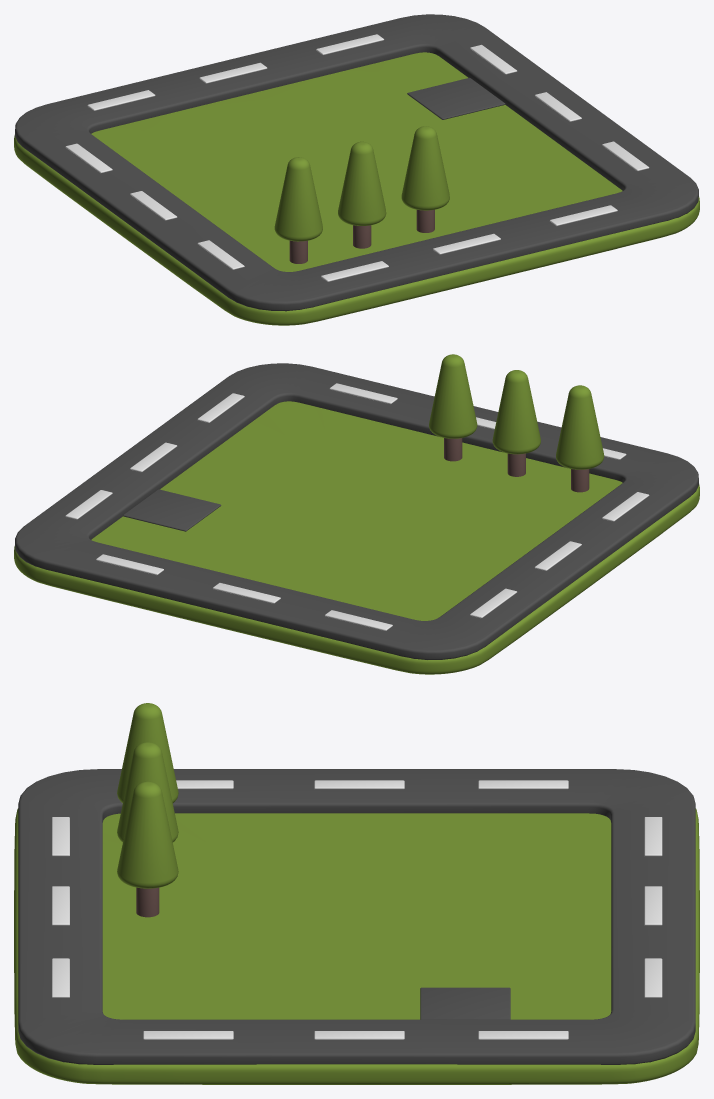
The model's file is apartment-animated-3d-icon-484116815438.glb.
The picture shows the model from 3 angles, top to bottom: view 1: azimuth 30°, elevation 25°; view 2: azimuth 150°, elevation 25°; view 3: azimuth 270°, elevation 25°; orthographic projection. The views are drawn at different scales.
Parts seen in each view (by area): view 1: Land.001, Road, Signs, Leaves.004, Leaves.002, Leaves.003, Plane.015; view 2: Land.001, Road, Signs, Leaves.003, Leaves.004, Leaves.002, Plane.015; view 3: Land.001, Road, Signs, Leaves.004, Plane.015, Leaves.003, Leaves.002, Trunk.004.
Boxes of the visible parts, x1,y1,x2,y2 form: Land.001: [14, 52, 699, 325]; Road: [15, 14, 698, 311]; Signs: [65, 34, 649, 281]; Leaves.004: [401, 126, 449, 210]; Leaves.002: [274, 157, 322, 241]; Leaves.003: [338, 141, 386, 225]; Plane.015: [407, 77, 505, 119]; Land.001: [14, 401, 699, 674]; Road: [15, 363, 698, 659]; Signs: [65, 383, 649, 630]; Leaves.003: [492, 370, 540, 454]; Leaves.004: [429, 354, 477, 438]; Leaves.002: [556, 385, 604, 469]; Plane.015: [123, 489, 221, 531]; Land.001: [14, 808, 699, 1084]; Road: [18, 769, 695, 1064]; Signs: [52, 780, 662, 1039]; Leaves.004: [117, 781, 178, 888]; Plane.015: [420, 987, 510, 1019]; Leaves.003: [117, 742, 178, 842]; Leaves.002: [117, 703, 178, 803]; Trunk.004: [136, 887, 159, 917].
Size of what is drawn, in the model's own units: 2 by 0.482 by 2.
